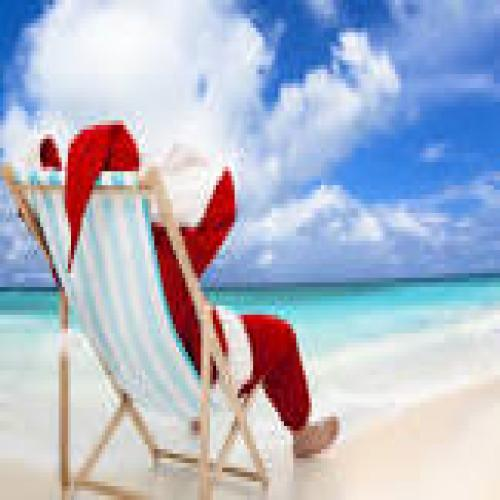Santa: (32, 116, 342, 474)
